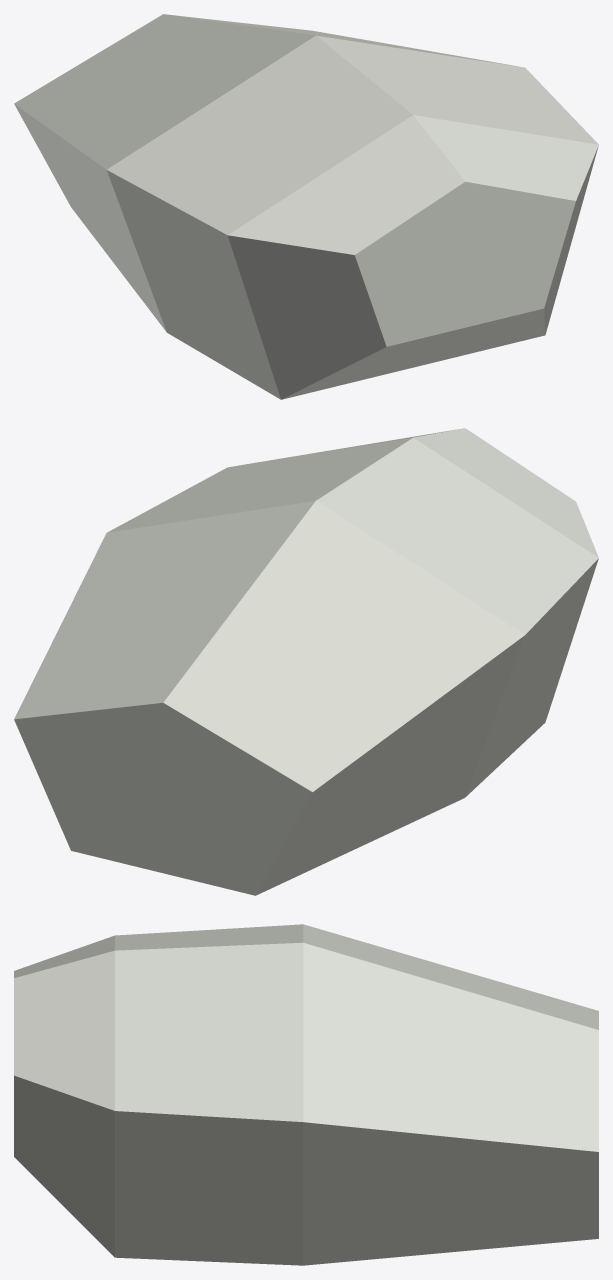
Rendered from hard_mouse.fbx.
3 views of the same model, one above another, from view 1: azimuth 30°, elevation 25°; view 2: azimuth 150°, elevation 25°; view 3: azimuth 270°, elevation 25° (orthographic). The views are drawn at different scales.
Parts seen in each view (by area): view 1: hard_mouse; view 2: hard_mouse; view 3: hard_mouse.
Part boxes in pixels (x1,y1,x2,y2): hard_mouse: (14, 14, 598, 399); hard_mouse: (14, 428, 598, 895); hard_mouse: (14, 924, 598, 1265).
Size of the model in its own units: 0.2118 by 0.126 by 0.2646.
